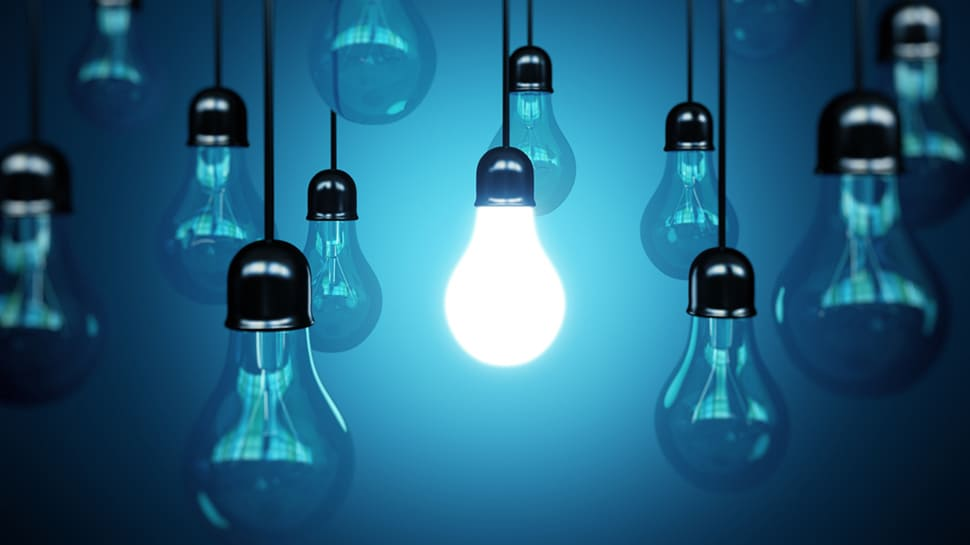Light_bulb: (179, 236, 381, 545), (774, 91, 953, 406), (635, 267, 792, 487), (439, 154, 571, 374), (157, 89, 289, 307), (282, 167, 398, 372), (630, 100, 746, 280), (457, 77, 588, 191)
